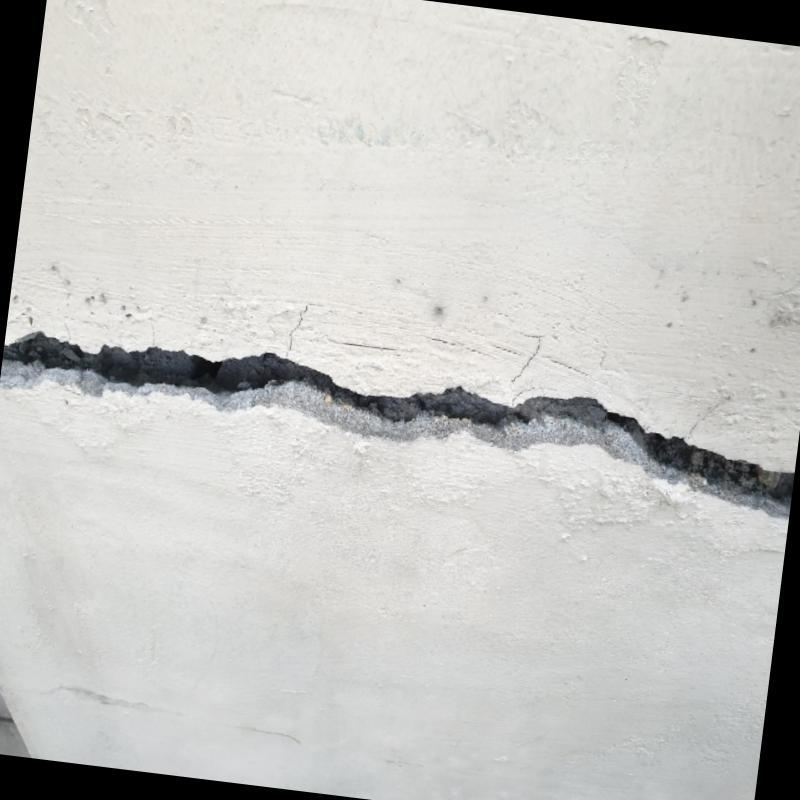pothole: (1, 327, 796, 515)
